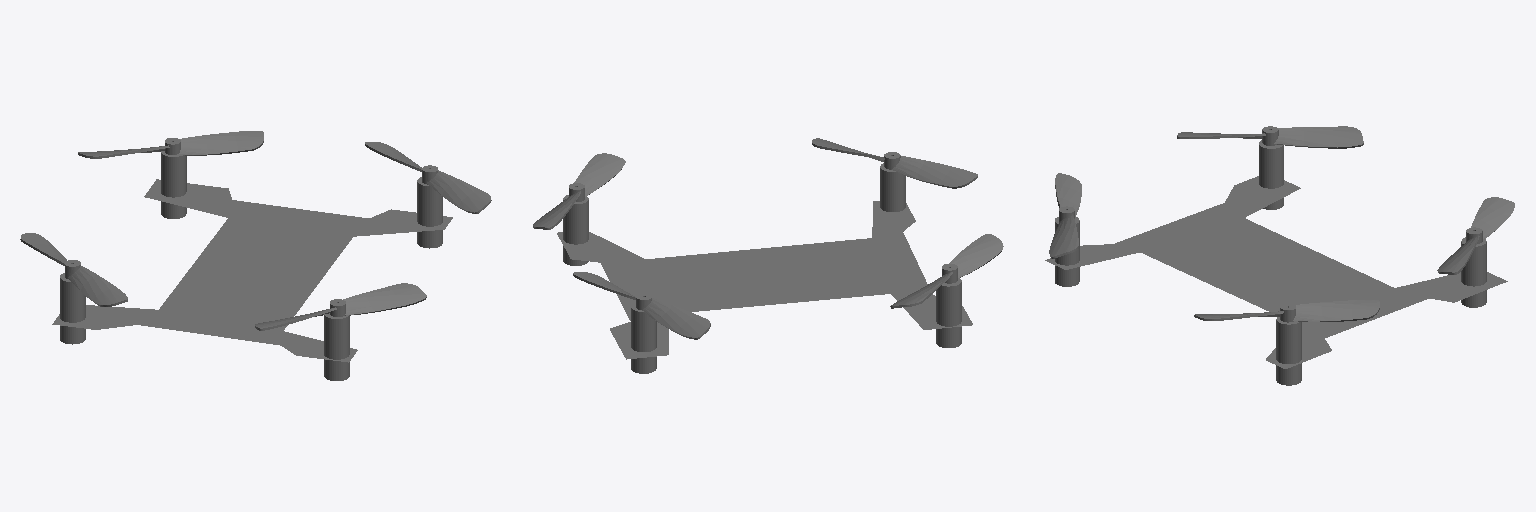
The robot description file, URDF, robot "RoboCain":
<?xml version="1.0" ?>

<robot name="RoboCain">

 <properties arm="0.0397" kf="3.16e-10" km="7.94e-12" thrust2weight="2.25" max_speed_kmh="30" gnd_eff_coeff="11.36859" prop_radius="2.31348e-2" drag_coeff_xy="9.1785e-7" drag_coeff_z="10.311e-7" dw_coeff_1="2267.18" dw_coeff_2=".16" dw_coeff_3="-.11" />

 <link name="base_link"> 

    <inertial>
      <origin rpy="0 0 0" xyz="0 0 0"/>
      <mass value="0.027"/>
      <inertia ixx="2.3951e-5" ixy="0.0" ixz="0.0" iyy="2.3951e-5" iyz="0.0" izz="3.2347e-5"/>
    </inertial>

    <!-- links>
      <carlos url="https://arxiv.org/pdf/1608.05786.pdf" />
      <julian url="http://mikehamer.info/assets/papers/Crazyflie%20Modelling.pdf" />
      <mit url="http://groups.csail.mit.edu/robotics-center/public_papers/Landry15.pdf" />
    </links -->

    <visual>
      <origin rpy="0 0 95" xyz="0 0 0"/>
      <geometry>
	<mesh filename="customDrone.dae" scale=" 1 1 1"/>
      </geometry> 
      <material name="grey">
        <color rgba=".5 .5 .5 1"/>
      </material> 
    </visual>

    <collision>
      <origin rpy="0 0 0" xyz="0 0 0"/>
      <geometry>
        <cylinder radius=".06" length=".025"/>
      </geometry>
    </collision>  

  </link>

  <link name="prop0_link">
    <inertial>
      <origin rpy="0 0 0" xyz="0.0397 0 0"/>
      <mass value="0"/>
      <inertia ixx="0" ixy="0" ixz="0" iyy="0" iyz="0" izz="0"/>
    </inertial>
  </link>
  <joint name="prop0_joint" type="fixed">
    <parent link="base_link"/>
    <child link="prop0_link"/>
  </joint>

  <link name="prop1_link">
    <inertial>
      <origin rpy="0 0 0" xyz="0 0.0397 0"/>
      <mass value="0"/>
      <inertia ixx="0" ixy="0" ixz="0" iyy="0" iyz="0" izz="0"/>
    </inertial>
  </link>
  <joint name="prop1_joint" type="fixed">
    <parent link="base_link"/>
    <child link="prop1_link"/>
  </joint>

  <link name="prop2_link">
    <inertial>
      <origin rpy="0 0 0" xyz="-0.0397 0 0"/>
      <mass value="0"/>
      <inertia ixx="0" ixy="0" ixz="0" iyy="0" iyz="0" izz="0"/>
    </inertial>
  </link>
  <joint name="prop2_joint" type="fixed">
    <parent link="base_link"/>
    <child link="prop2_link"/>
  </joint>

  <link name="prop3_link">
    <inertial>
      <origin rpy="0 0 0" xyz="0 -0.0397 0"/>
      <mass value="0"/>
      <inertia ixx="0" ixy="0" ixz="0" iyy="0" iyz="0" izz="0"/>
    </inertial>
  </link>
  <joint name="prop3_joint" type="fixed">
    <parent link="base_link"/>
    <child link="prop3_link"/>
  </joint>

  <link name="center_of_mass_link">
    <inertial>
      <origin rpy="0 0 0" xyz="0 0 0"/>
      <mass value="0"/>
      <inertia ixx="0" ixy="0" ixz="0" iyy="0" iyz="0" izz="0"/>
    </inertial>
  </link>
  <joint name="center_of_mass_joint" type="fixed">
    <parent link="base_link"/>
    <child link="center_of_mass_link"/>
  </joint>

</robot>

--- Render facts (derived) ---
The picture shows the robot from 3 angles, left to right: view 1: azimuth 30°, elevation 25°; view 2: azimuth 150°, elevation 25°; view 3: azimuth 270°, elevation 25°; orthographic projection.
Model RoboCain with 6 links and 5 joints (5 fixed), rooted at base_link, posed all joints at 0.
Visible links, largest first — view 1: base_link; view 2: base_link; view 3: base_link.
Boxes of the visible links, x1=… form: base_link: x1=20, y1=131, x2=491, y2=380; base_link: x1=533, y1=138, x2=1003, y2=373; base_link: x1=1045, y1=126, x2=1514, y2=385.
Bounding box of the posed robot: 0.1147 × 0.1159 × 0.0203 m (x, y, z).
Meshes: 1 distinct files referenced, 1 mesh visuals loaded (1 Collada DAE).
